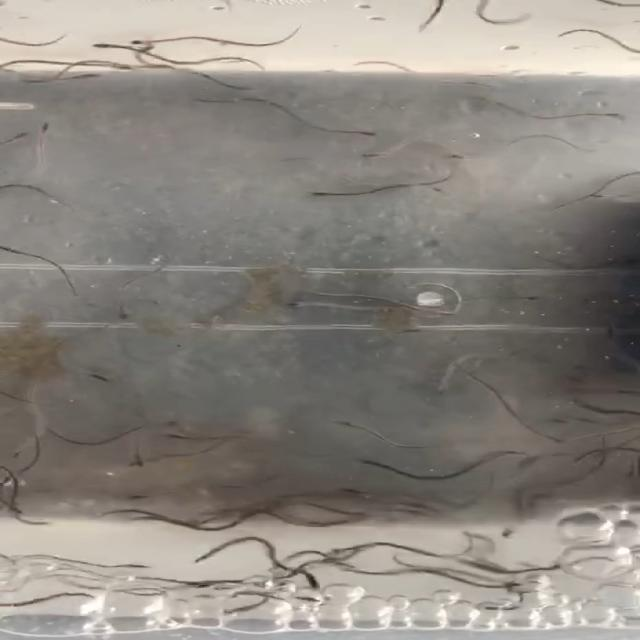active_glass_eel: (217, 598, 268, 619), (301, 184, 347, 202), (400, 495, 434, 515), (154, 428, 200, 442), (270, 298, 314, 312), (124, 456, 160, 473), (329, 484, 367, 500), (107, 302, 137, 322), (301, 573, 332, 592), (519, 450, 551, 468), (325, 416, 363, 431), (124, 489, 164, 503), (334, 511, 373, 525), (342, 449, 372, 467), (77, 370, 115, 384), (445, 150, 492, 161), (338, 125, 380, 137), (356, 147, 392, 161), (426, 380, 454, 398), (590, 188, 628, 201), (515, 293, 550, 307), (128, 448, 152, 468), (81, 41, 120, 53), (589, 111, 628, 123), (35, 119, 58, 139), (5, 128, 26, 149), (122, 37, 162, 48), (9, 442, 31, 462), (116, 559, 149, 572), (1, 499, 26, 516), (106, 64, 141, 72), (502, 528, 530, 538)
